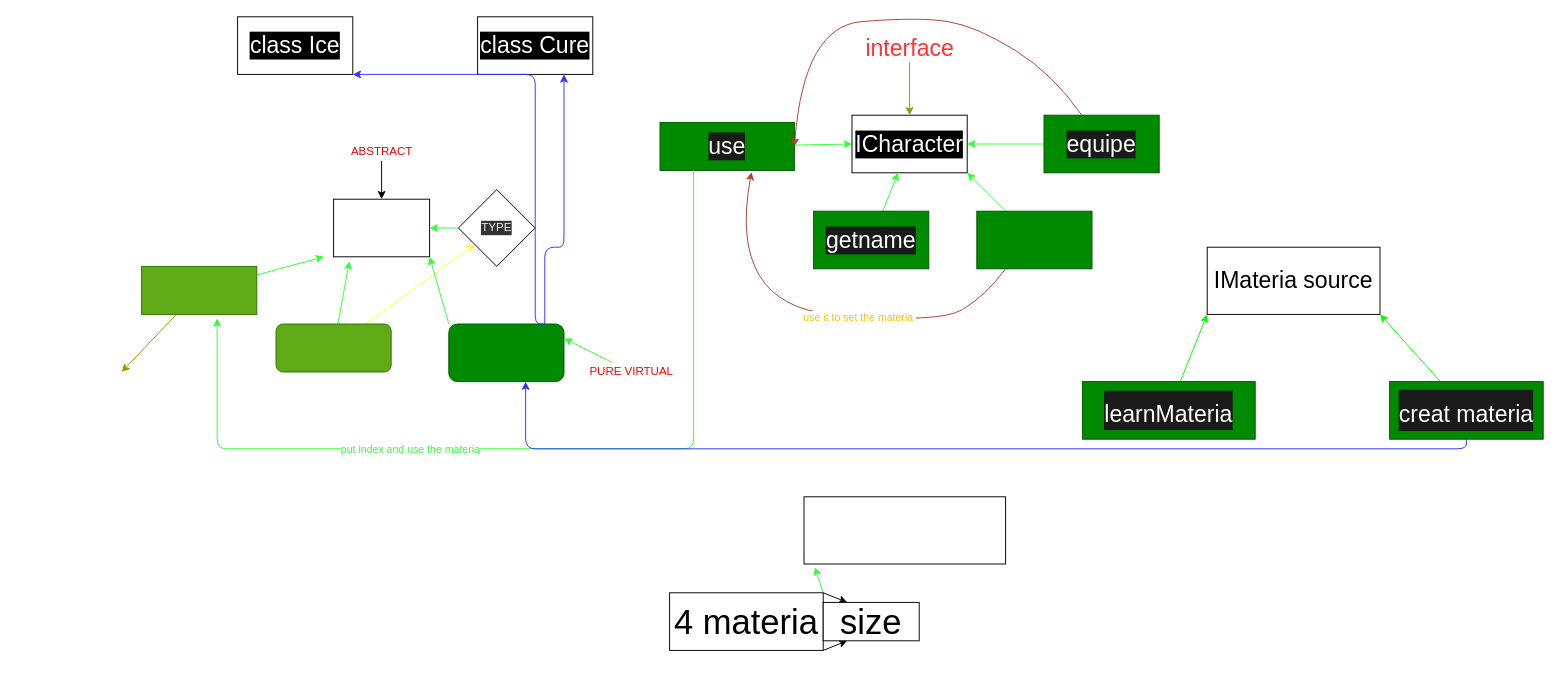
The diagram is 1560 pixels wide and 675 high, and some of its shapes have lost their labels. The centre of each missing label's shape, as x and y in pixels:
Character: pixel 904 530
class AMateria: pixel 381 227
CLONE: pixel 506 352
CONSTRUCTOR SET THE TYPE: pixel 333 347
unequipe: pixel 1034 239
USE ( ICHARCHTER ): pixel 199 289
